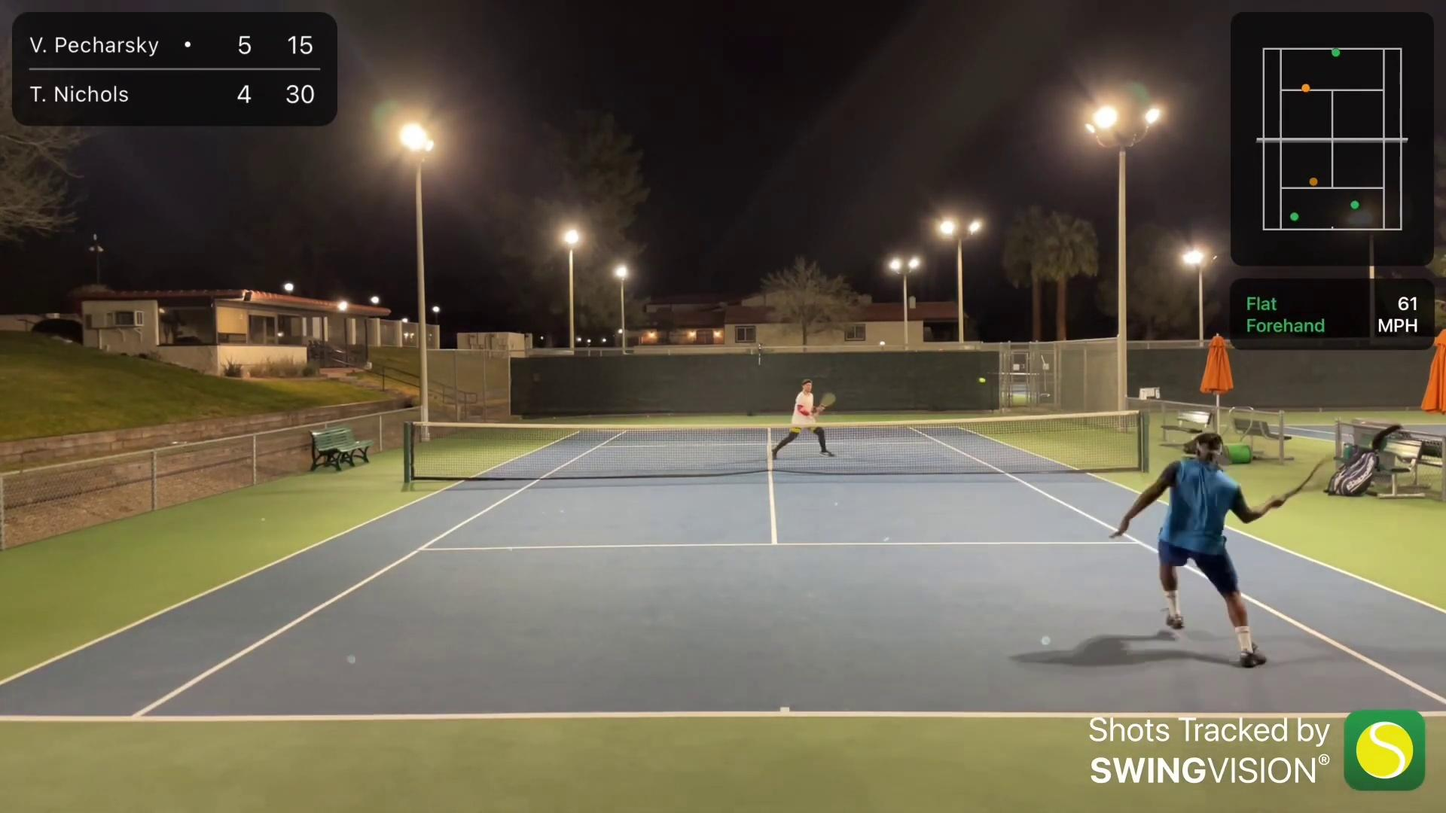ball: (977, 377, 982, 381)
